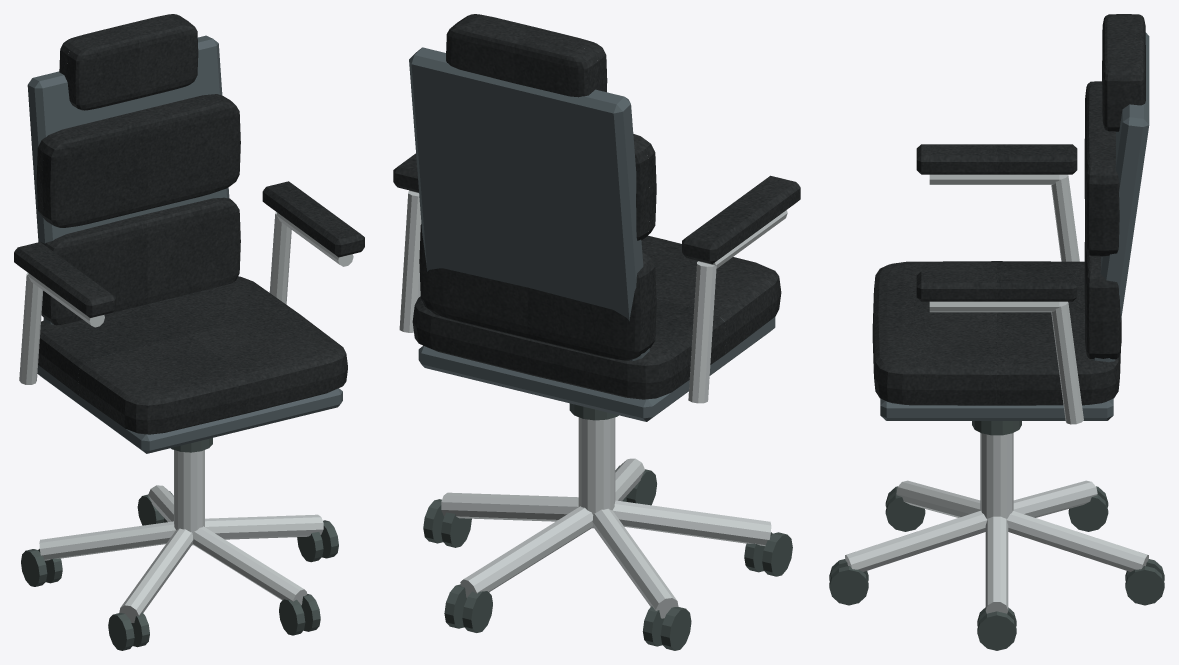
The model's file is OfficeChair.glb.
3 views of the same model, side by side, from view 1: azimuth 30°, elevation 25°; view 2: azimuth 150°, elevation 25°; view 3: azimuth 270°, elevation 25° (orthographic). The views are drawn at different scales.
Visible parts, largest first — view 1: OfficeChair__BlackLeather__mesh, OfficeChair__BrushedHardware__mesh, OfficeChair__BlackenedSteel__mesh, OfficeChair__Rubber__mesh; view 2: OfficeChair__BlackenedSteel__mesh, OfficeChair__BlackLeather__mesh, OfficeChair__BrushedHardware__mesh, OfficeChair__Rubber__mesh; view 3: OfficeChair__BlackLeather__mesh, OfficeChair__BrushedHardware__mesh, OfficeChair__BlackenedSteel__mesh, OfficeChair__Rubber__mesh.
Boxes of the visible parts, <box> form: OfficeChair__BlackLeather__mesh: <box>14,14,364,434</box>; OfficeChair__BrushedHardware__mesh: <box>19,212,353,622</box>; OfficeChair__BlackenedSteel__mesh: <box>27,35,342,453</box>; OfficeChair__Rubber__mesh: <box>21,438,338,650</box>; OfficeChair__BlackenedSteel__mesh: <box>409,47,775,421</box>; OfficeChair__BlackLeather__mesh: <box>393,14,800,399</box>; OfficeChair__BrushedHardware__mesh: <box>399,190,787,618</box>; OfficeChair__Rubber__mesh: <box>423,403,792,650</box>; OfficeChair__BlackLeather__mesh: <box>872,14,1145,405</box>; OfficeChair__BrushedHardware__mesh: <box>845,174,1148,613</box>; OfficeChair__BlackenedSteel__mesh: <box>880,32,1149,420</box>; OfficeChair__Rubber__mesh: <box>829,421,1164,650</box>.
Bounding box in the file's own units: 0.652 × 1.15 × 0.6466.
4 materials, 1 textured.
